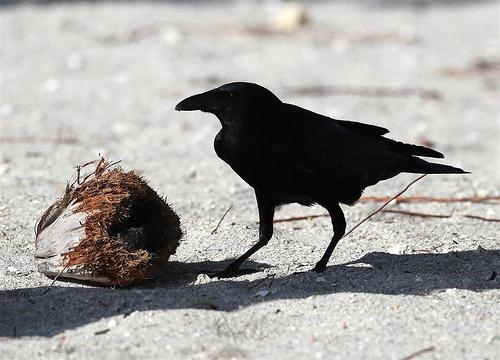bird: (163, 75, 470, 271)
